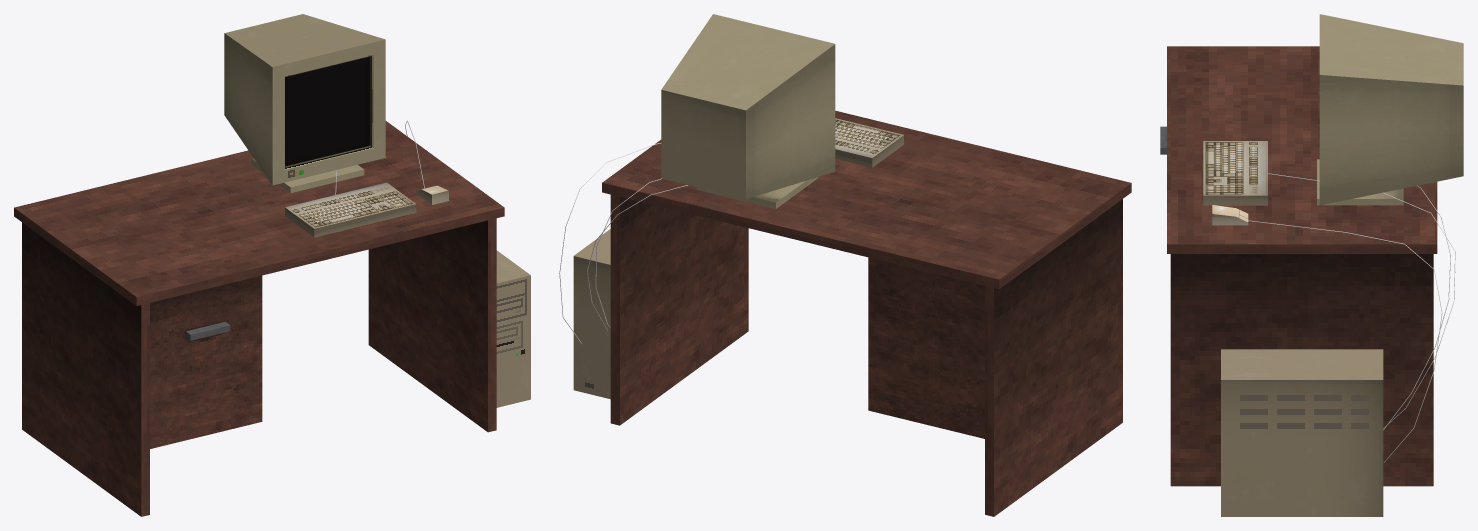
Rendered from full_setup.glb.
The picture shows the model from 3 angles, left to right: view 1: azimuth 30°, elevation 25°; view 2: azimuth 150°, elevation 25°; view 3: azimuth 270°, elevation 25°; orthographic projection. The views are drawn at different scales.
Parts seen in each view (by area): view 1: Cube, Cube.005, Cube.001, Cube.004, Cube.002, Cube.006; view 2: Cube, Cube.005, Cube.001, Cube.004, Cube.002, Cube.006; view 3: Cube, Cube.004, Cube.005, Cube.002, Cube.006, Cube.003, NurbsPath.001, NurbsPath.
Boxes of the visible parts, x1,y1,x2,y2 form: Cube: (14,121,504,516); Cube.005: (224,14,385,185); Cube.001: (150,275,262,448); Cube.004: (496,250,530,407); Cube.002: (285,182,416,237); Cube.006: (251,158,364,193); Cube: (602,110,1131,516); Cube.005: (661,14,835,198); Cube.001: (868,257,984,438); Cube.004: (573,229,610,399); Cube.002: (835,118,903,167); Cube.006: (696,177,818,208); Cube: (1167,46,1437,486); Cube.004: (1221,349,1383,516); Cube.005: (1319,14,1463,205); Cube.002: (1203,141,1267,205); Cube.006: (1317,159,1403,205); Cube.003: (1212,205,1248,225); NurbsPath.001: (1248,220,1442,462); NurbsPath: (1268,173,1455,428).
Size of the model in its own units: 1.48 by 1.19 by 0.8427.
Materials: 8 (8 with a texture image).
